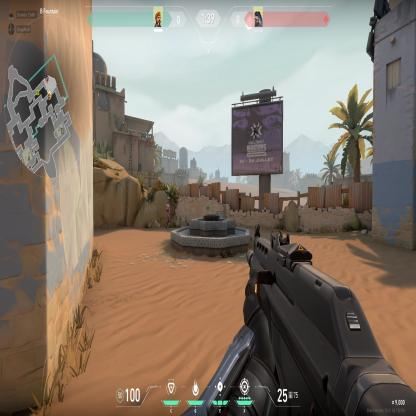enemy: (165, 201, 170, 230)
